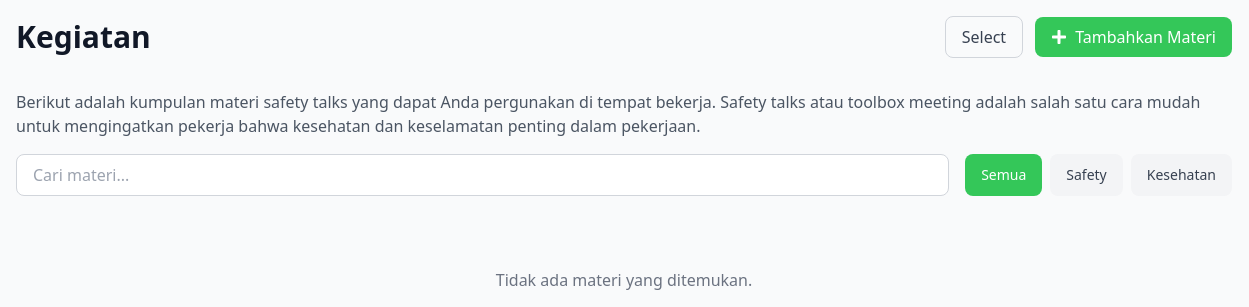
Test: Kegiatan Component › should toggle select mode
The width and height of the screenshot is (1249, 307).
Click the button "Select" at (984, 37), box x1=945 y1=16 x2=1023 y2=58
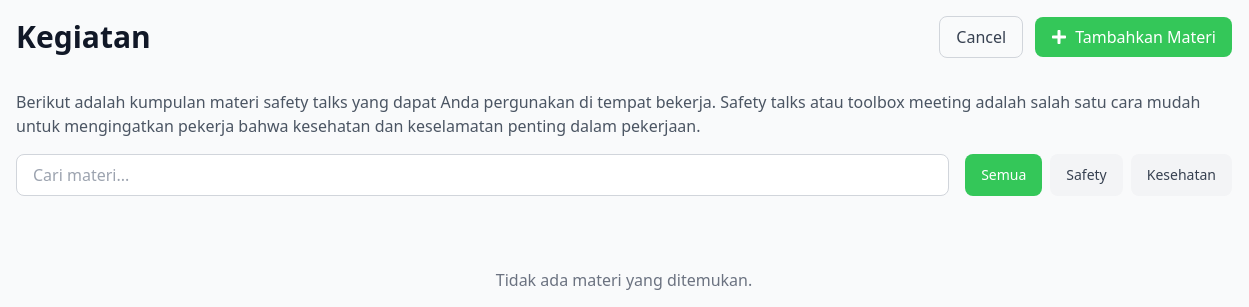
Check: the text "Cancel" is shown, box x1=956 y1=25 x2=1006 y2=49
